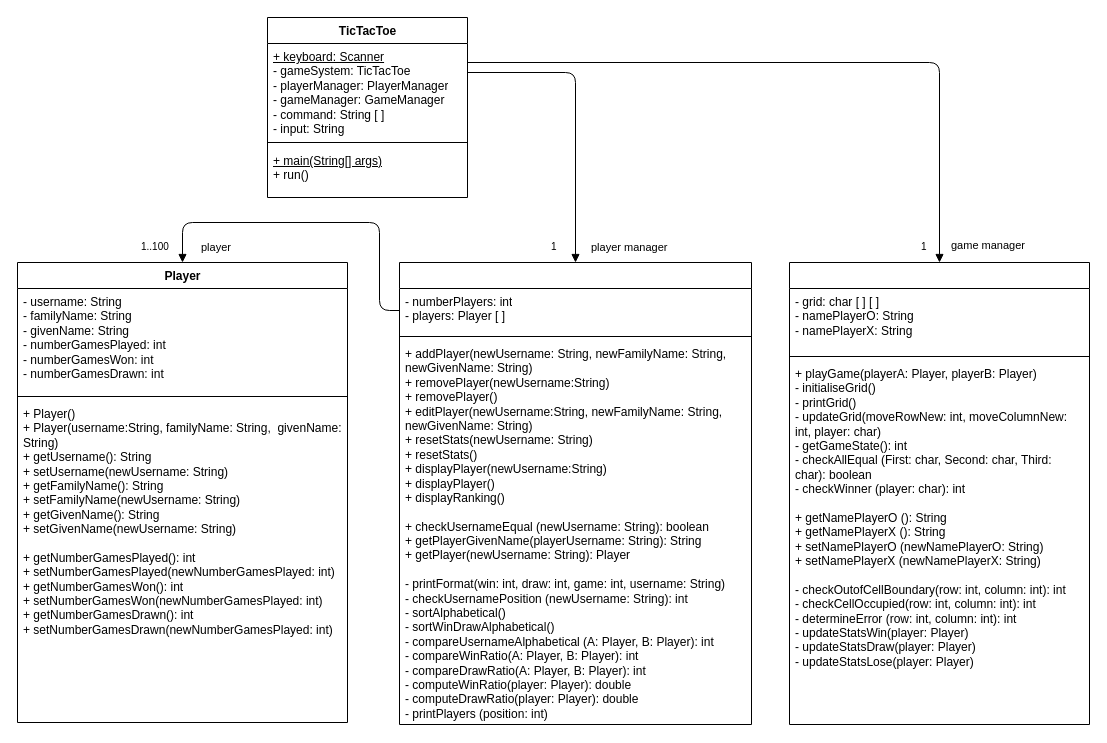
Some shapes in this 1107 by 743 pixel diagram are drawn without their labels. Here are the shapes that lost their labels. From the top down, the box of each, then its label:
(398, 262, 752, 724): PlayerManager
(788, 262, 1090, 724): GameManager
